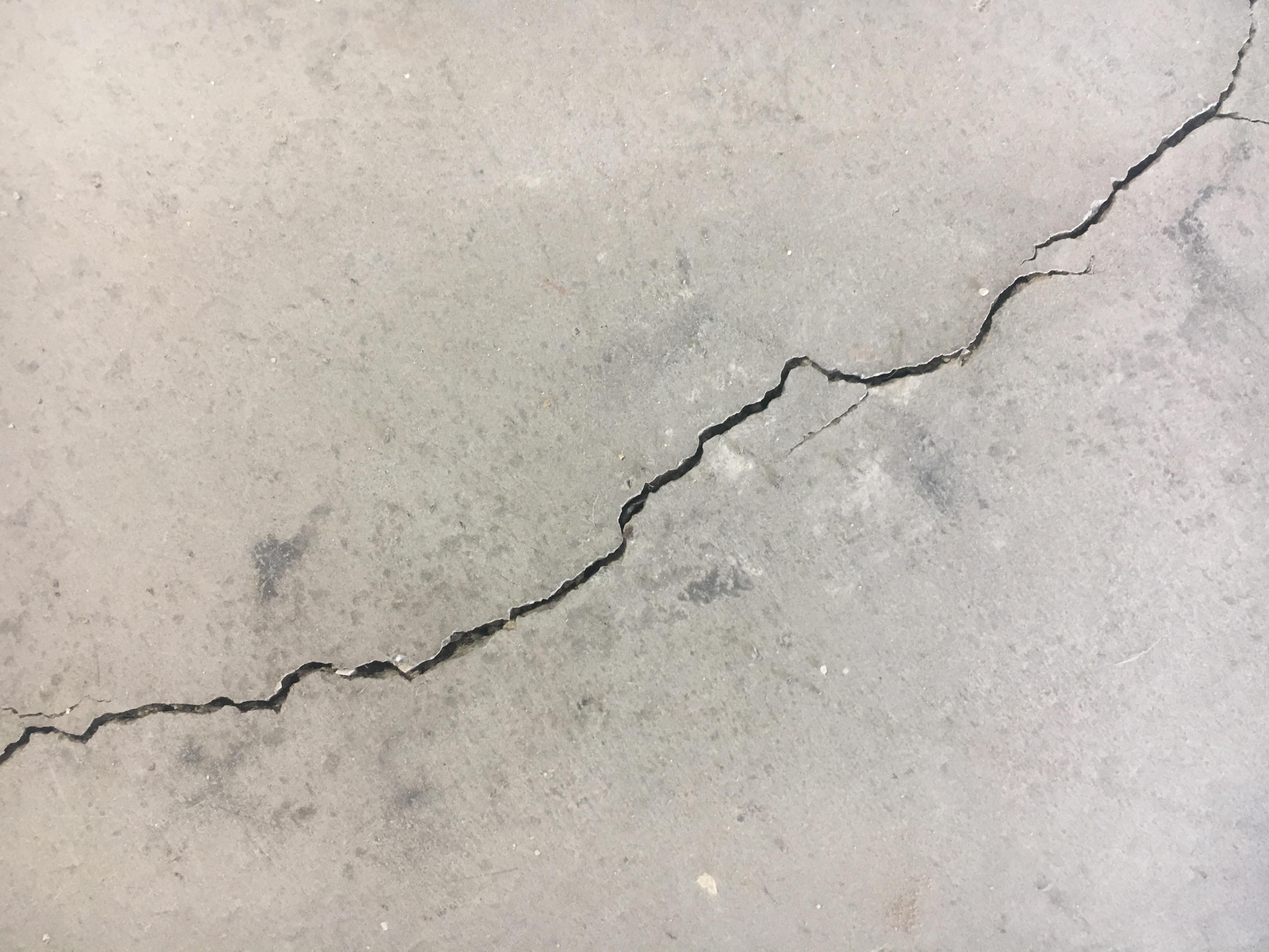Diagonal Crack: (4, 4, 1262, 768)
